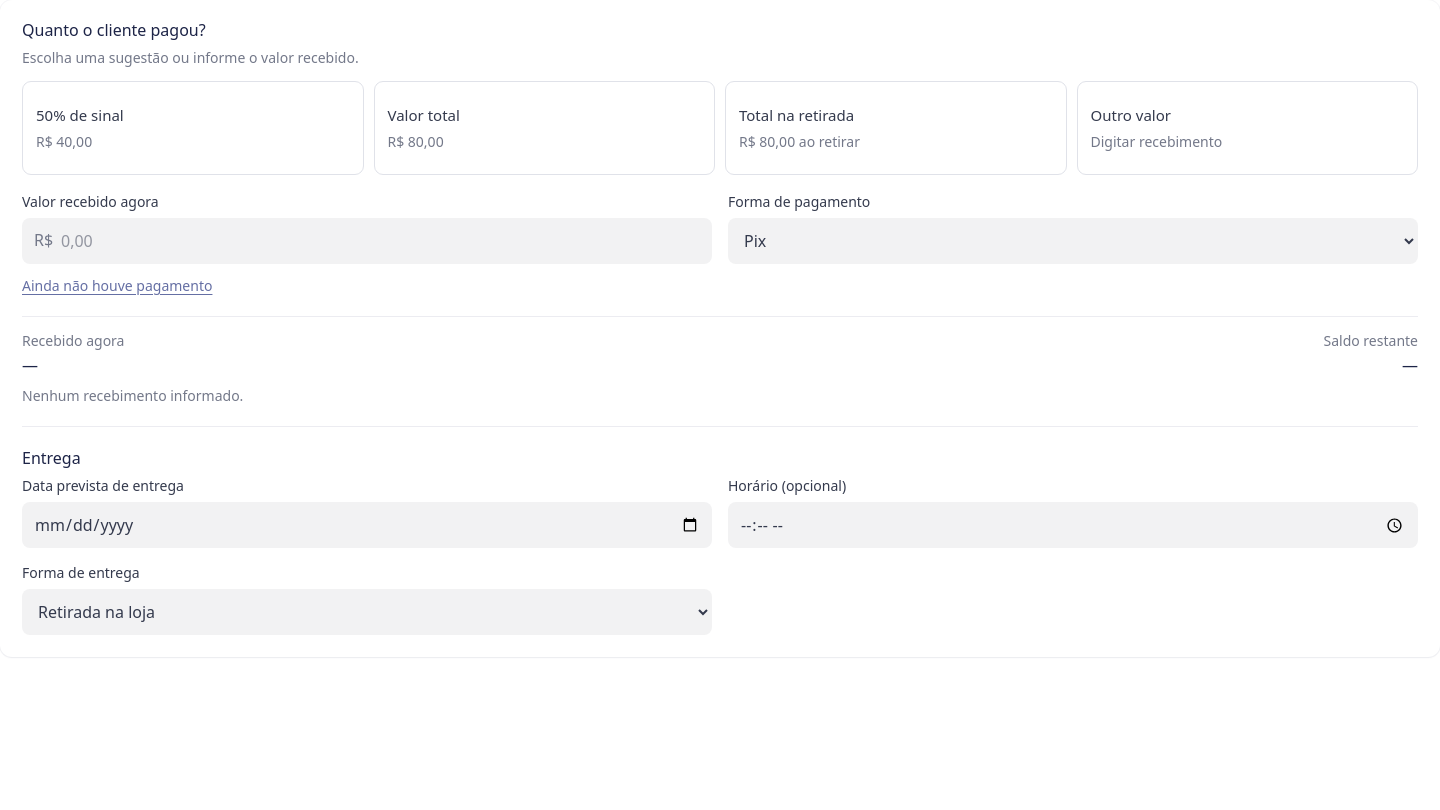
Test: pedido direto usa os mesmos campos de Fechar Orçamento
Expected: the heading "Quanto o cliente pagou?" is shown, [22, 19, 206, 41]
Expected: the date field labelled "Data prevista de entrega" is shown, [22, 502, 712, 548]
Click the button "50% de sinal R$ 40,00": click(80, 115) [22, 81, 364, 175]
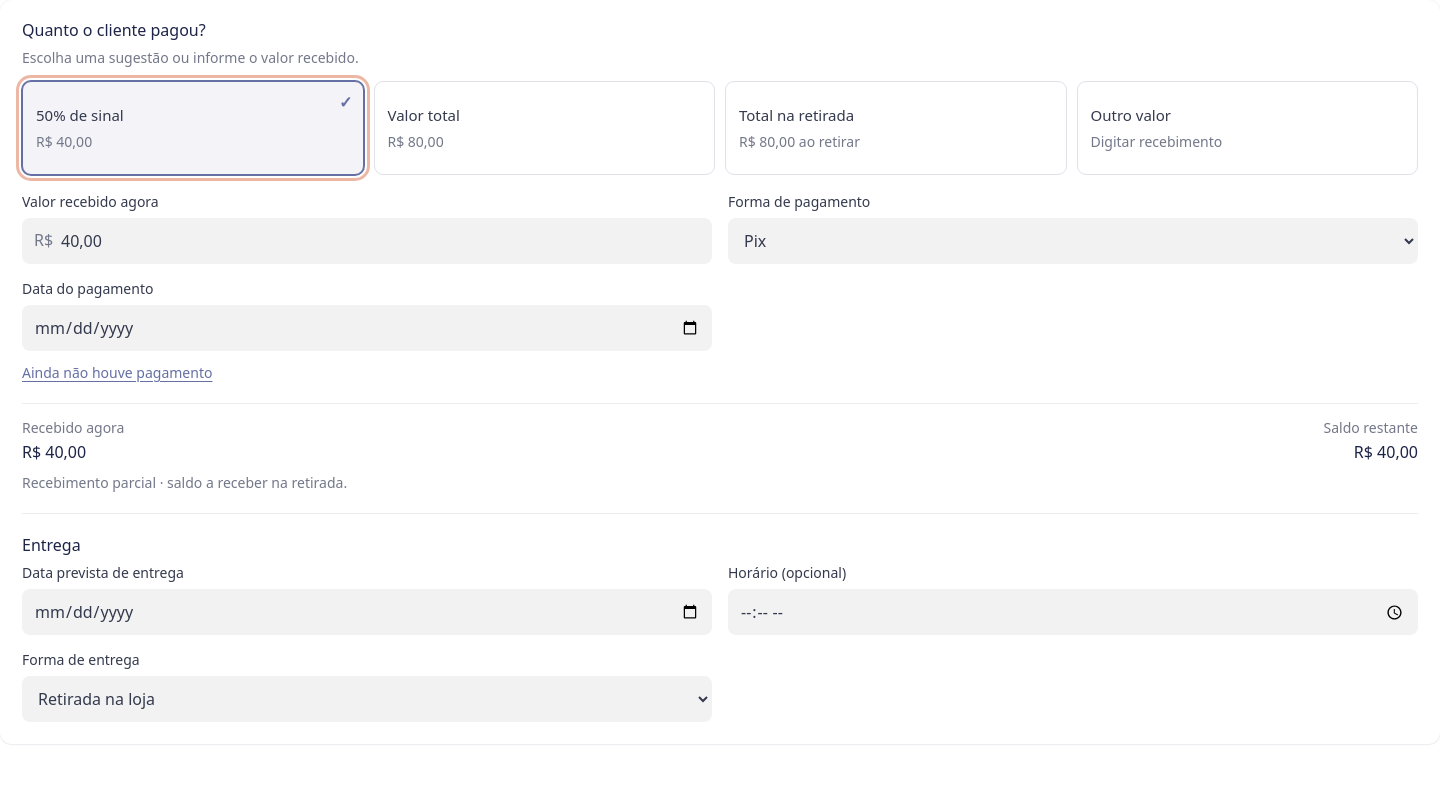
Expected: the field labelled "Valor recebido agora" holds "40,00", [22, 218, 712, 264]
Click the button "Total na retirada R$ 80,00 ao retirar": click(797, 115) [725, 81, 1066, 175]
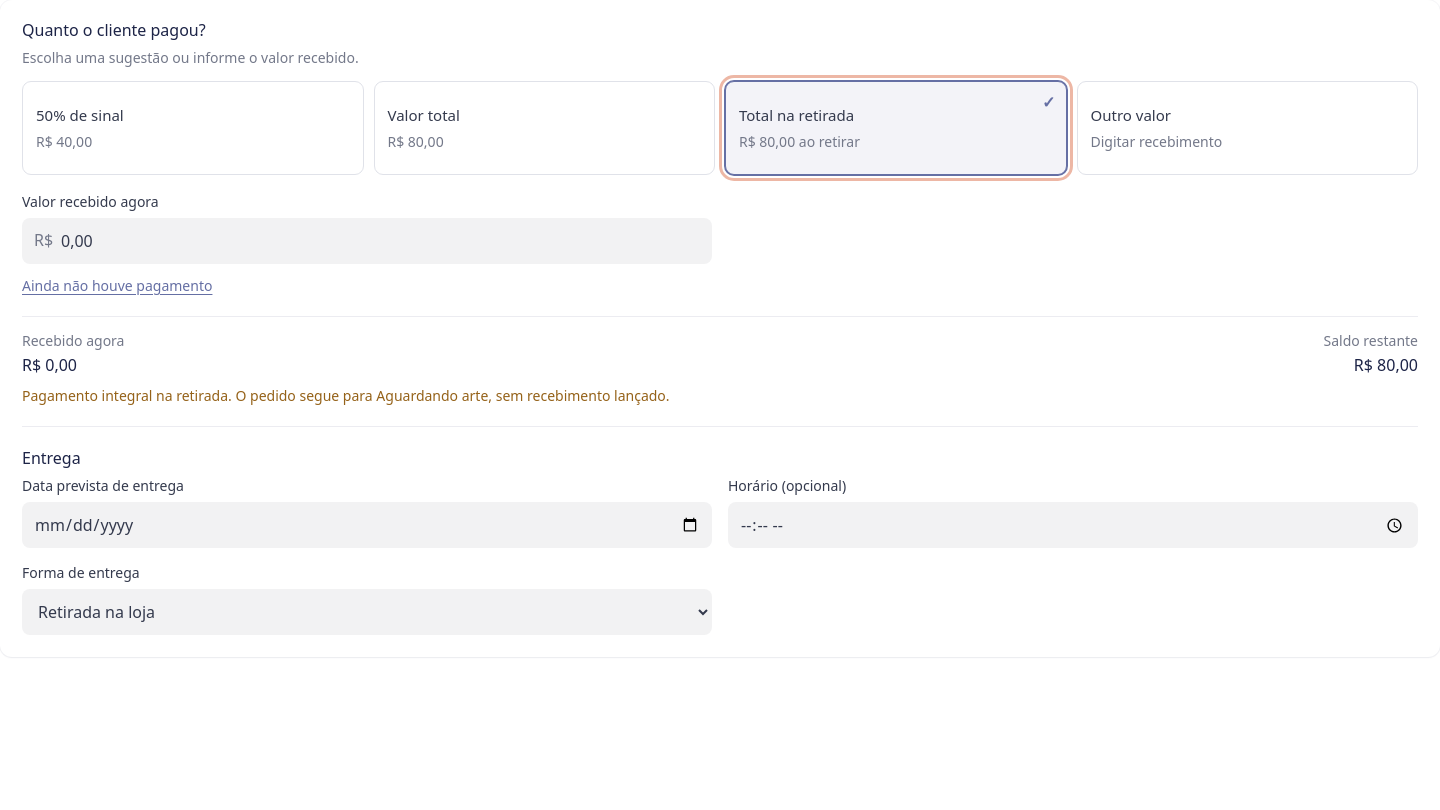
Expected: the text labelled "Forma de pagamento" is gone
